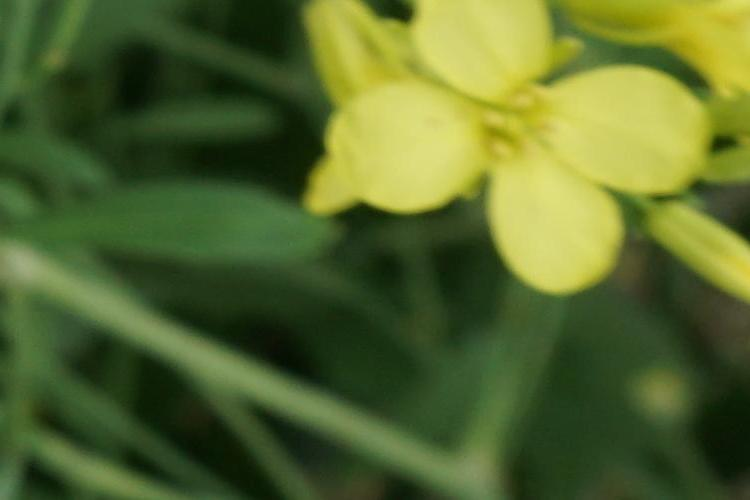yellow: (332, 13, 679, 271)
